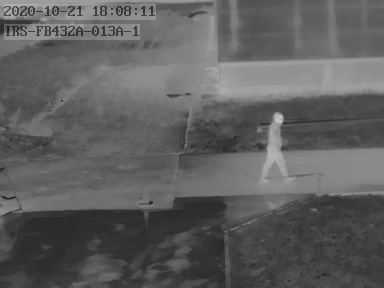person: (262, 110, 292, 184)
